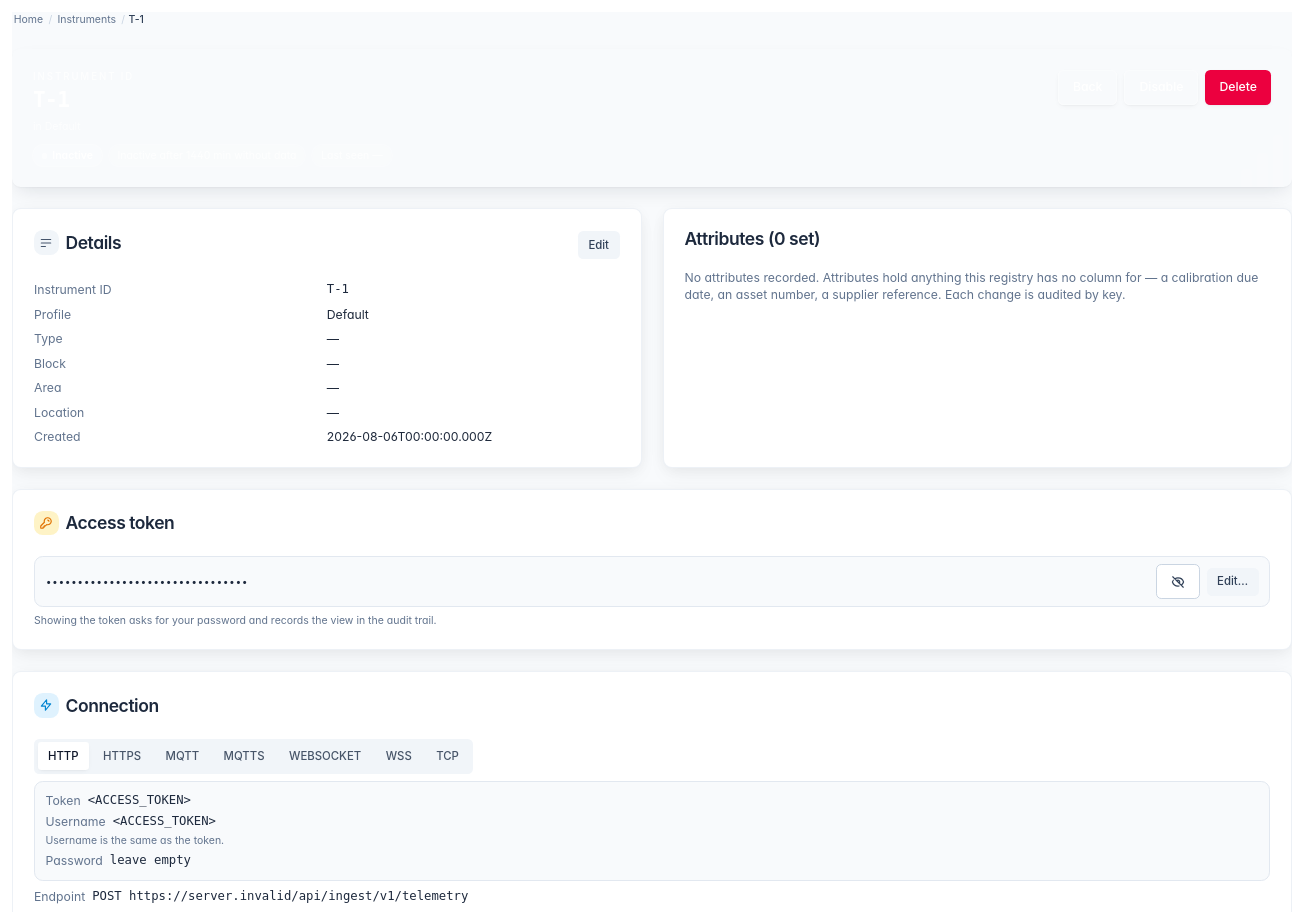
Test: the profile is not editable until Edit is pressed › discards the change on Cancel
Click the button "Edit" at (599, 245), box x1=578 y1=231 x2=620 y2=259
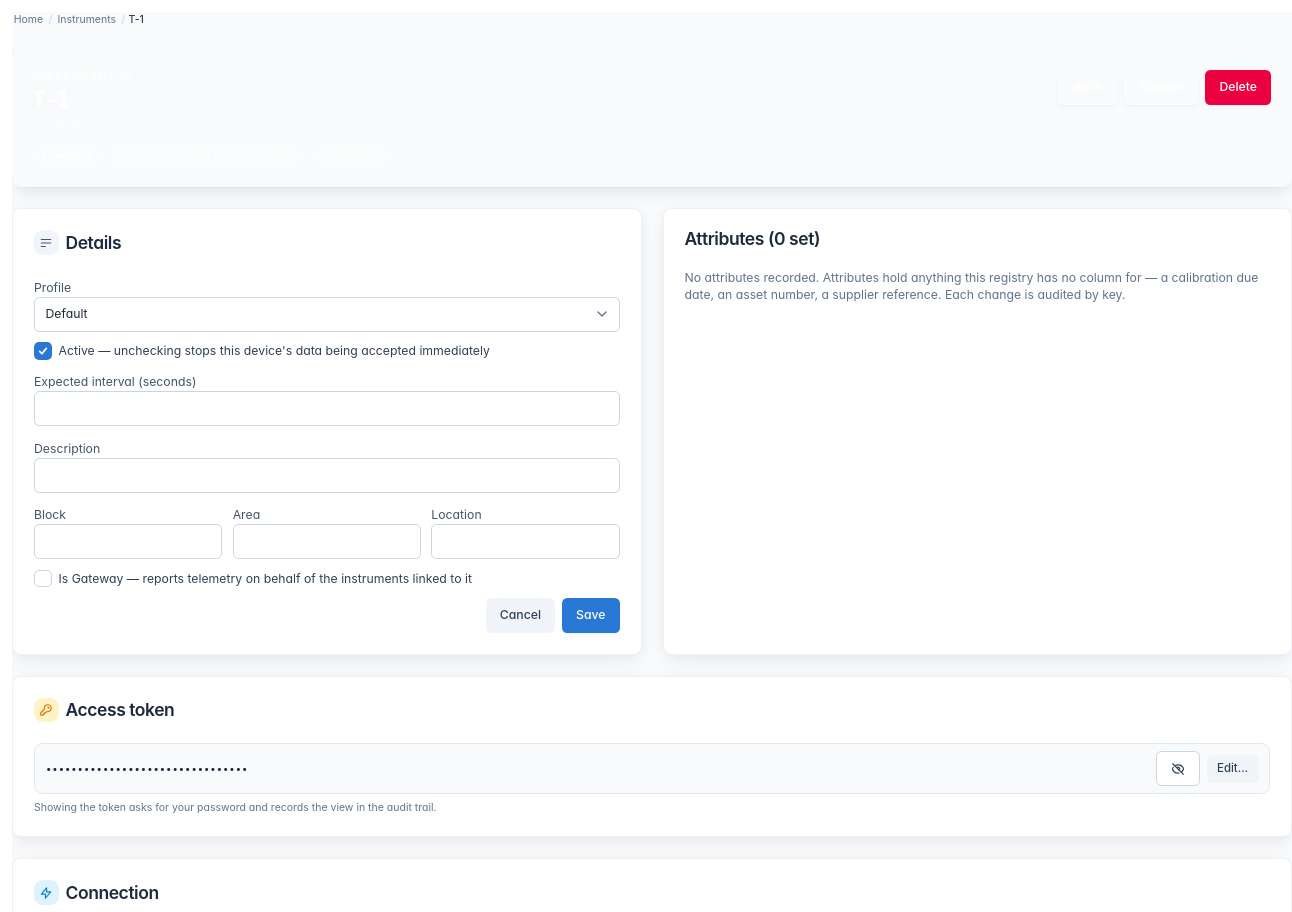
Select "Test" in the dropdown labelled "Profile" at (327, 314), box x1=34 y1=297 x2=620 y2=332
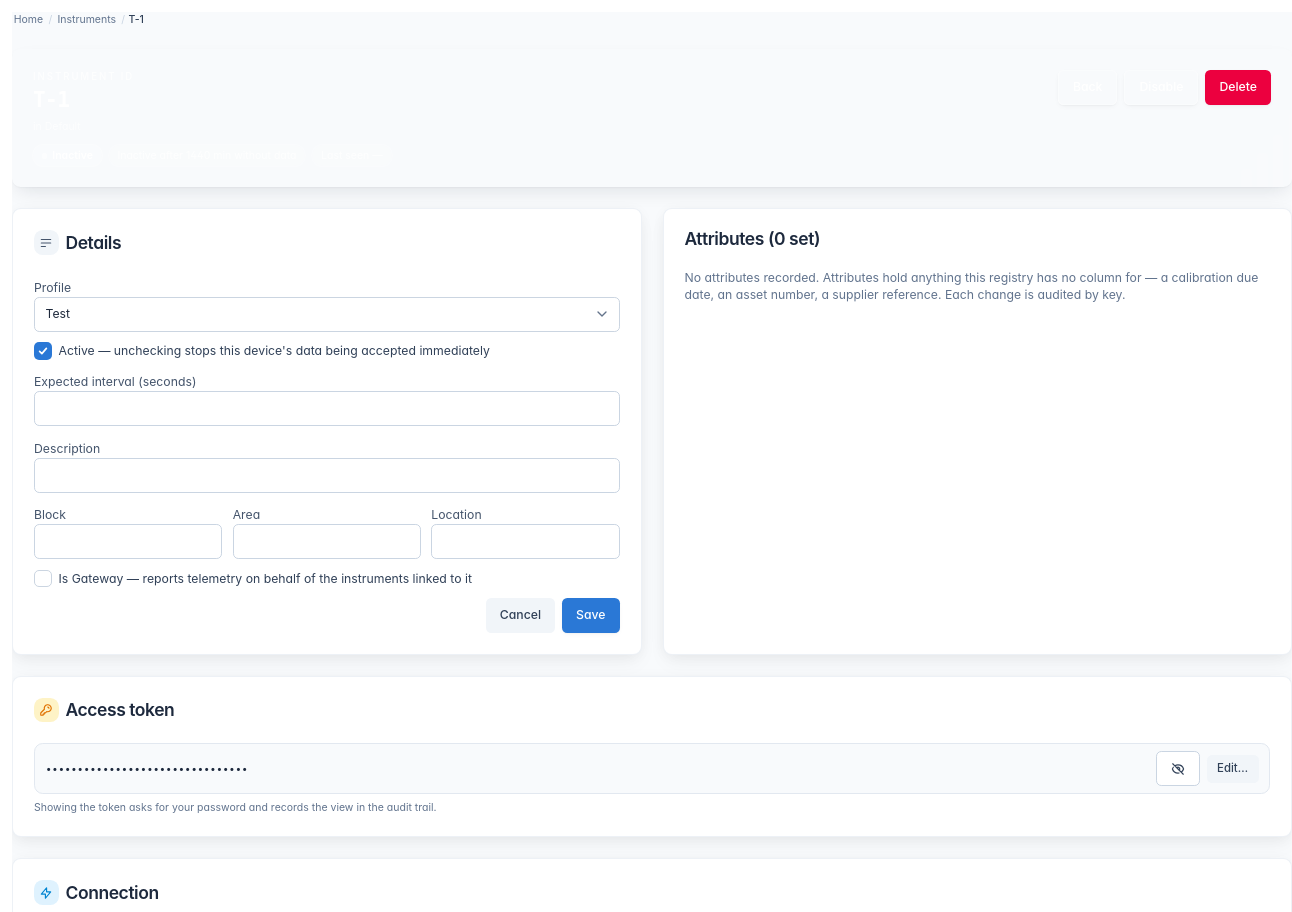
Click the button "Cancel" at (520, 615), box x1=486 y1=598 x2=555 y2=633
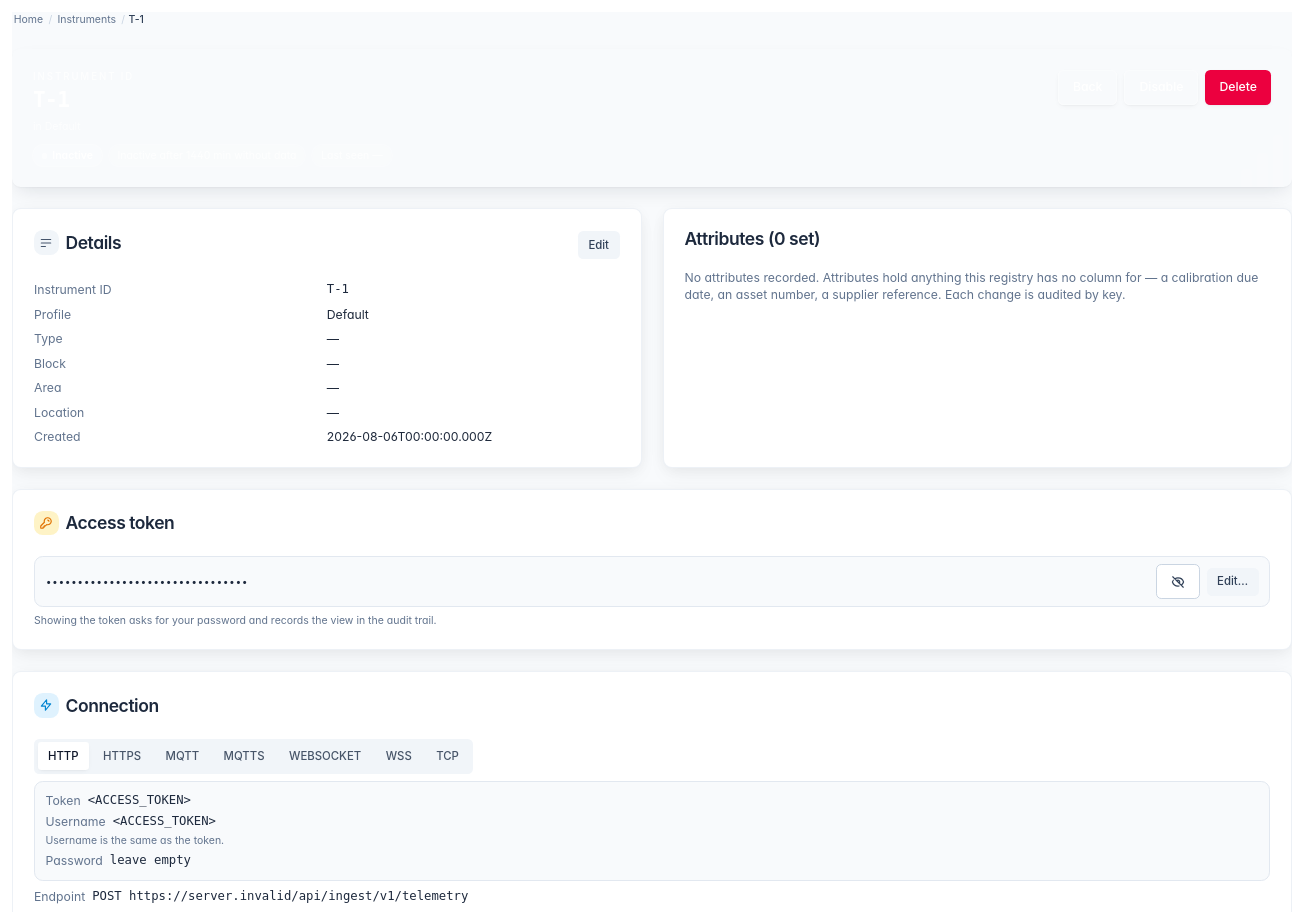
Now the text "Default" is shown, box x1=327 y1=307 x2=369 y2=322
